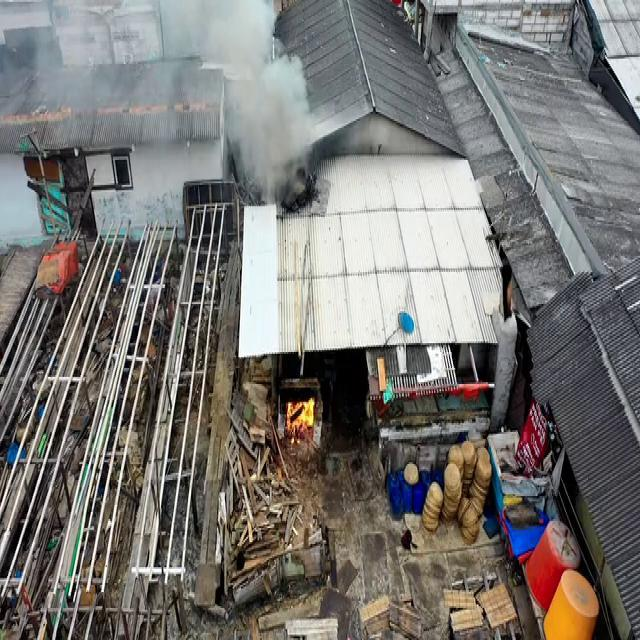smoke: (225, 58, 314, 203), (172, 0, 275, 76)
